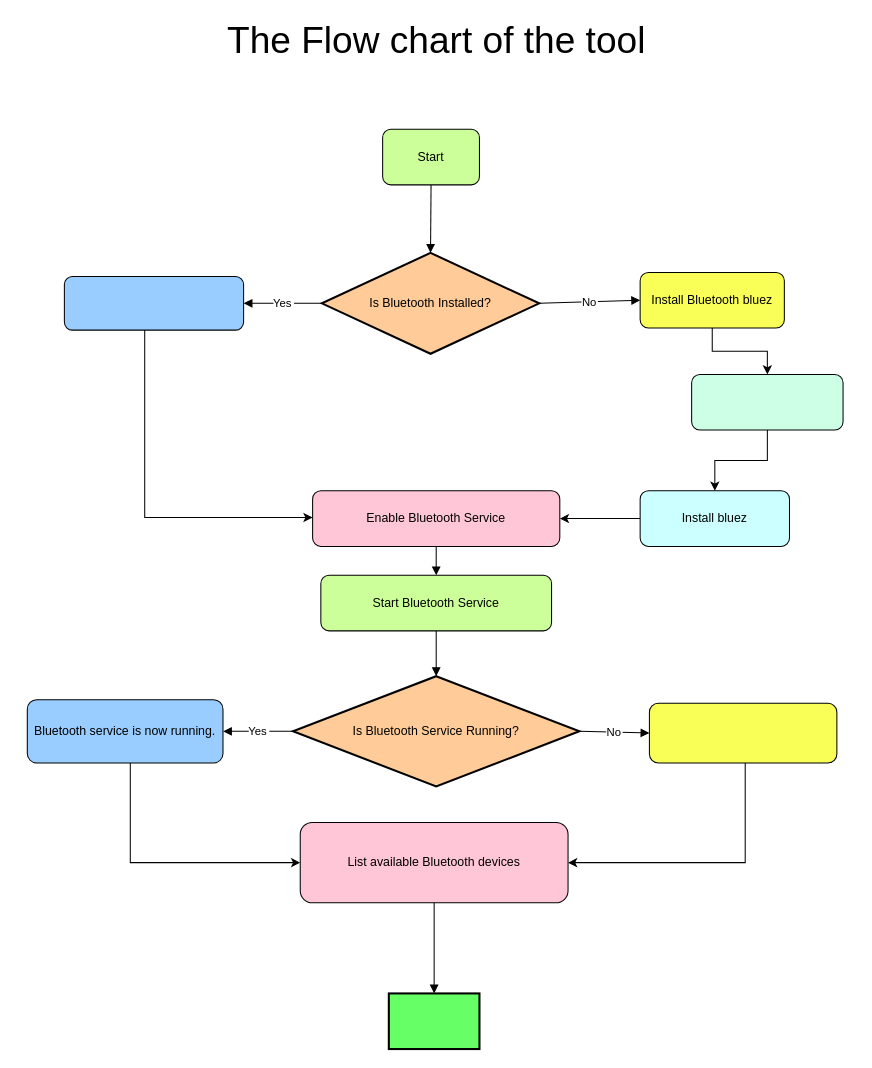
Image size: 872x1068. Some labels were removed from this diagram. Each missing label, with the box of its shape:
Bluetooth is already installed.: (63, 276, 244, 330)
End: (387, 992, 480, 1050)
Failed to start Bluetooth service.: (648, 702, 837, 763)
Update Package List: (691, 373, 843, 430)
